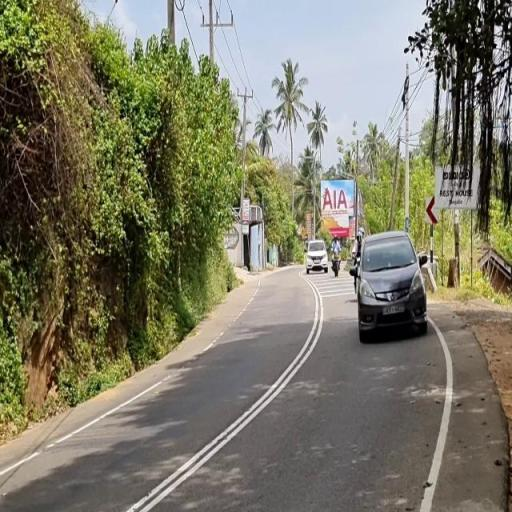double_white_line: (126, 282, 326, 511)
